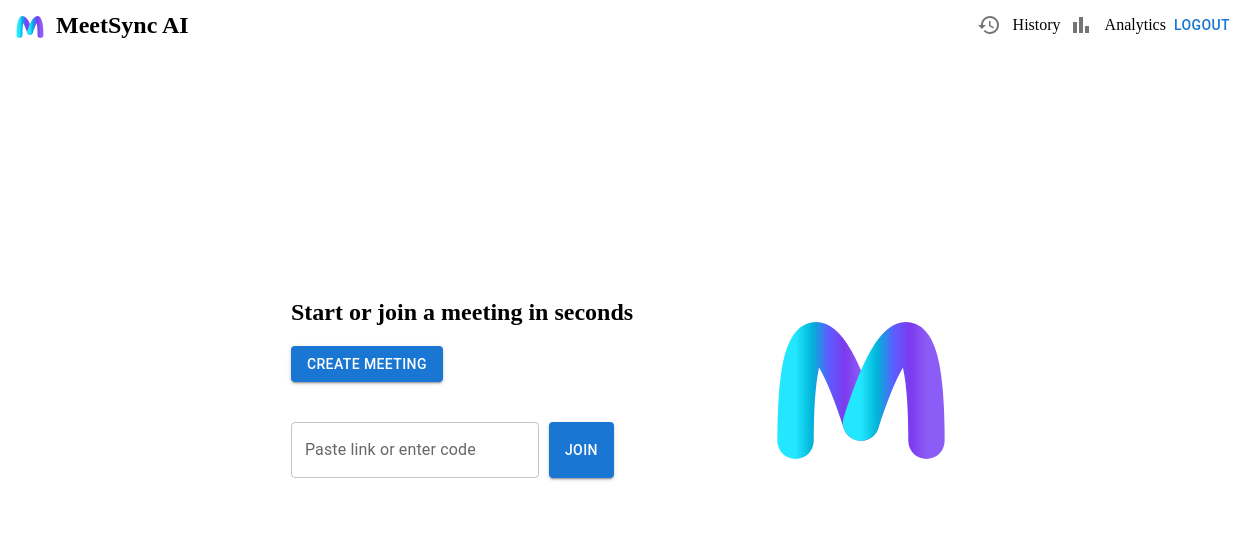
HomeComponent › creates meeting code on button click
The image size is (1247, 548).
Click the button "Create Meeting" at coordinates (367, 364), box [291, 346, 443, 382]
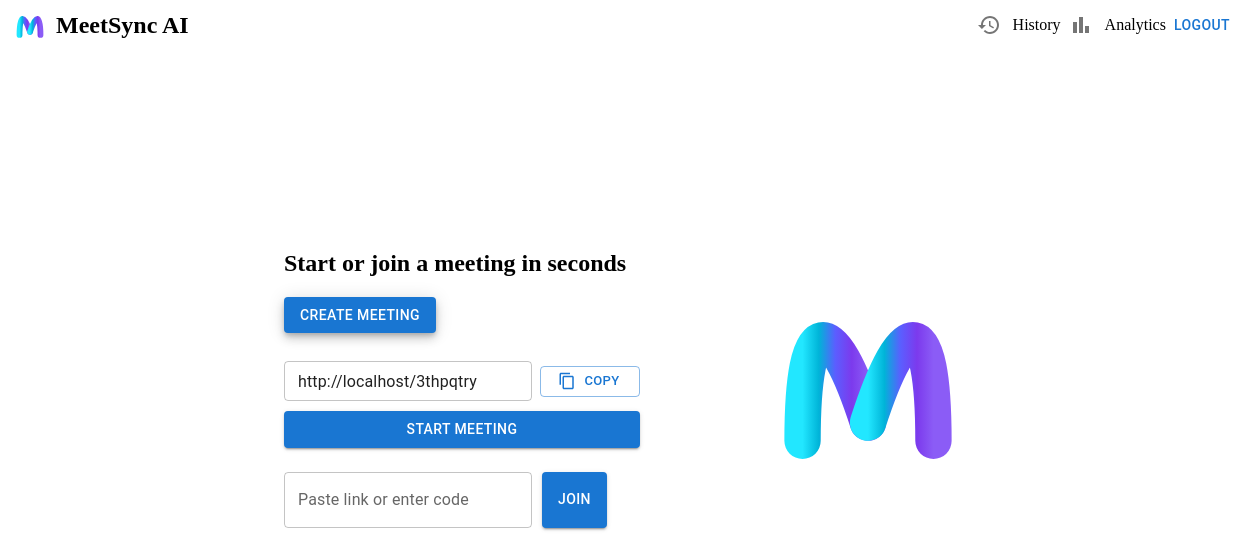
expect the button "Copy" is shown: met, box [540, 366, 640, 397]
expect the button "Start Meeting" is shown: met, box [284, 411, 640, 448]
